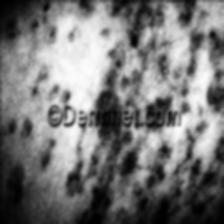Toxin: (109, 0, 166, 42)
